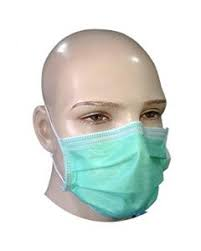mask: (49, 53, 168, 215)
